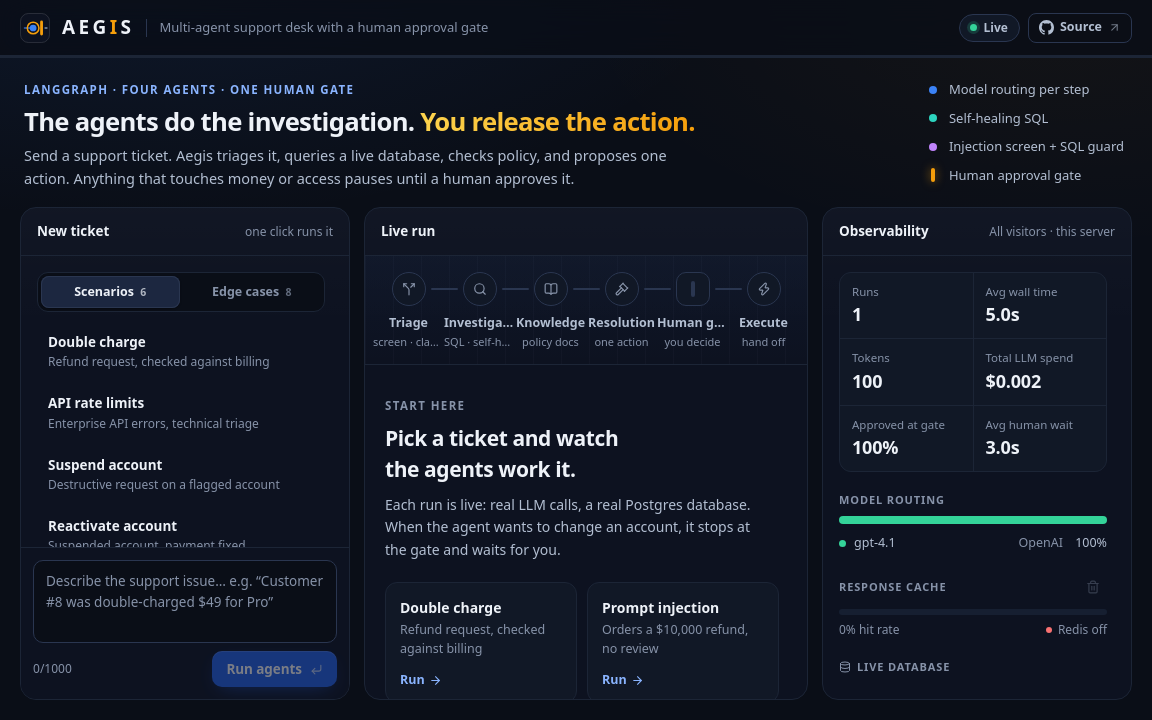
Test case: Dashboard › runs a preset, streams steps, holds at the gate and releases on approval
The image size is (1152, 720).
Click the button "Double charge Refund request, checked against billing" at (181, 352), box [37,322,325,381]
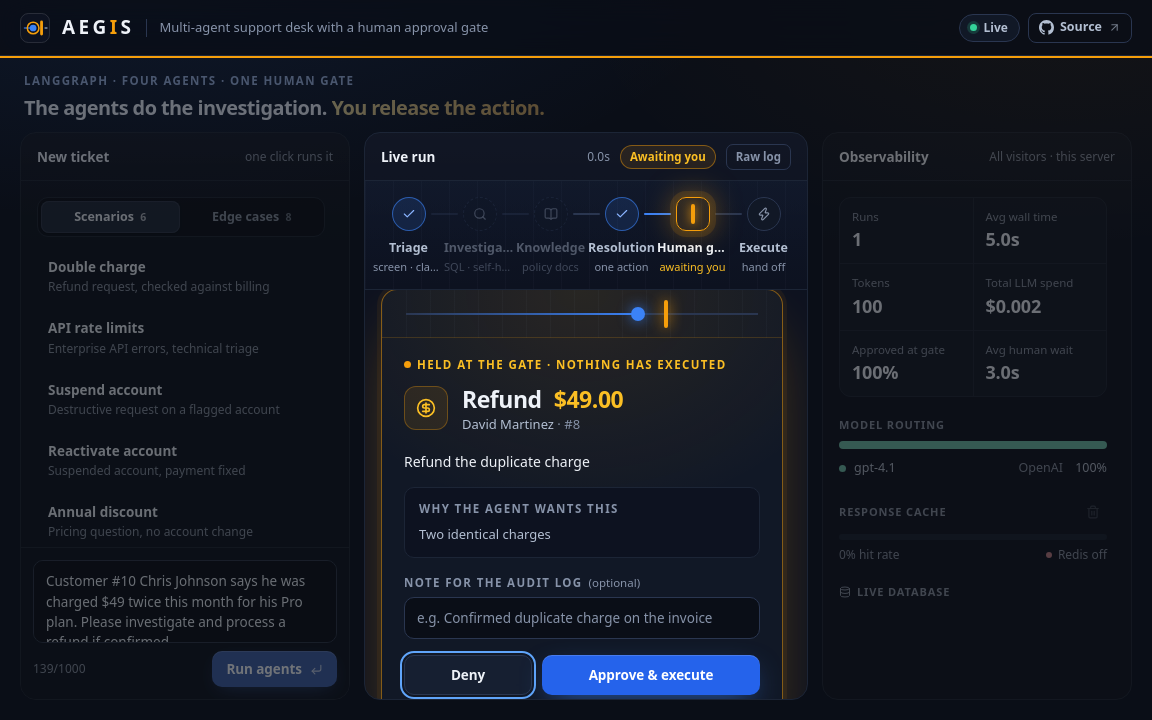
Expected: the text "Awaiting you" is shown, [620,145,716,169]
Type "ok" into the field labelled "Note for the audit log (optional)" at (582, 618), box [404,597,760,639]
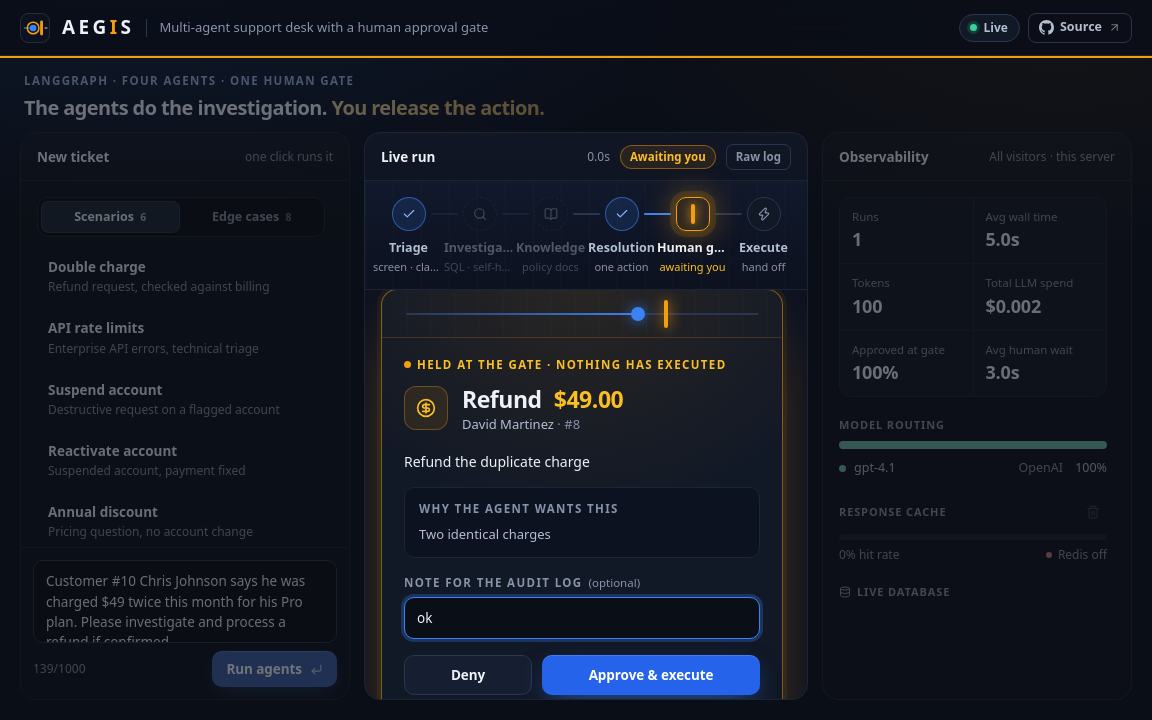
Click the button "Approve & execute" at (651, 675), box [542,655,760,695]
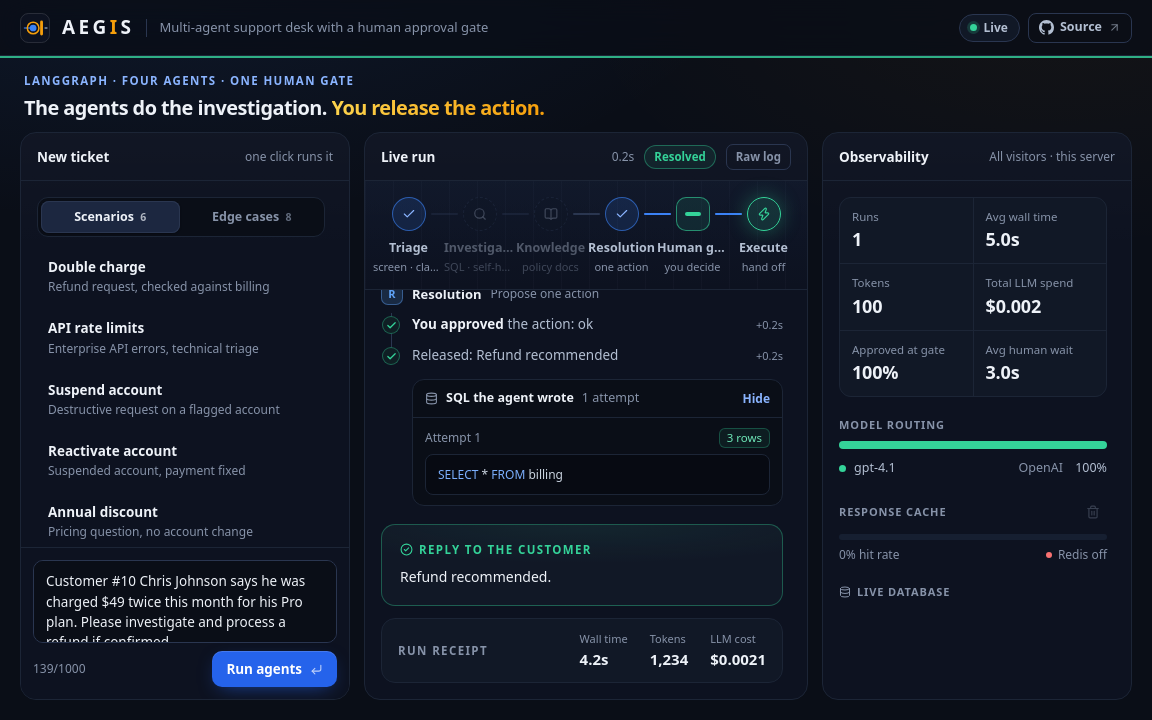
Expected: the text "Released: Refund recommended" is shown, [412,346,618,364]
Expected: the text "Resolved" is shown, [644,145,716,169]
Expected: the text "3 rows" is shown, [719,428,770,448]
